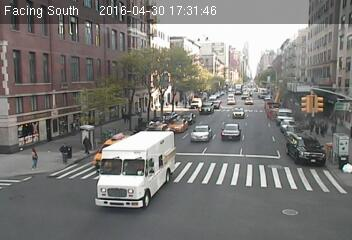neg: (160, 154, 183, 185), (146, 6, 169, 37), (21, 33, 44, 63), (195, 32, 217, 61), (226, 10, 248, 39), (313, 37, 333, 65), (214, 122, 233, 147), (247, 115, 264, 137), (291, 17, 308, 39), (256, 154, 272, 176), (121, 160, 136, 180), (56, 12, 71, 32), (51, 80, 65, 99), (299, 154, 312, 172), (240, 55, 253, 73), (89, 186, 102, 203), (91, 49, 103, 65), (16, 77, 28, 93), (249, 88, 261, 102), (146, 39, 157, 54), (290, 69, 300, 83), (121, 14, 129, 24)
pos: (306, 107, 333, 143), (71, 133, 98, 168), (22, 142, 42, 169), (55, 139, 74, 164), (121, 110, 130, 122), (172, 98, 181, 110)
